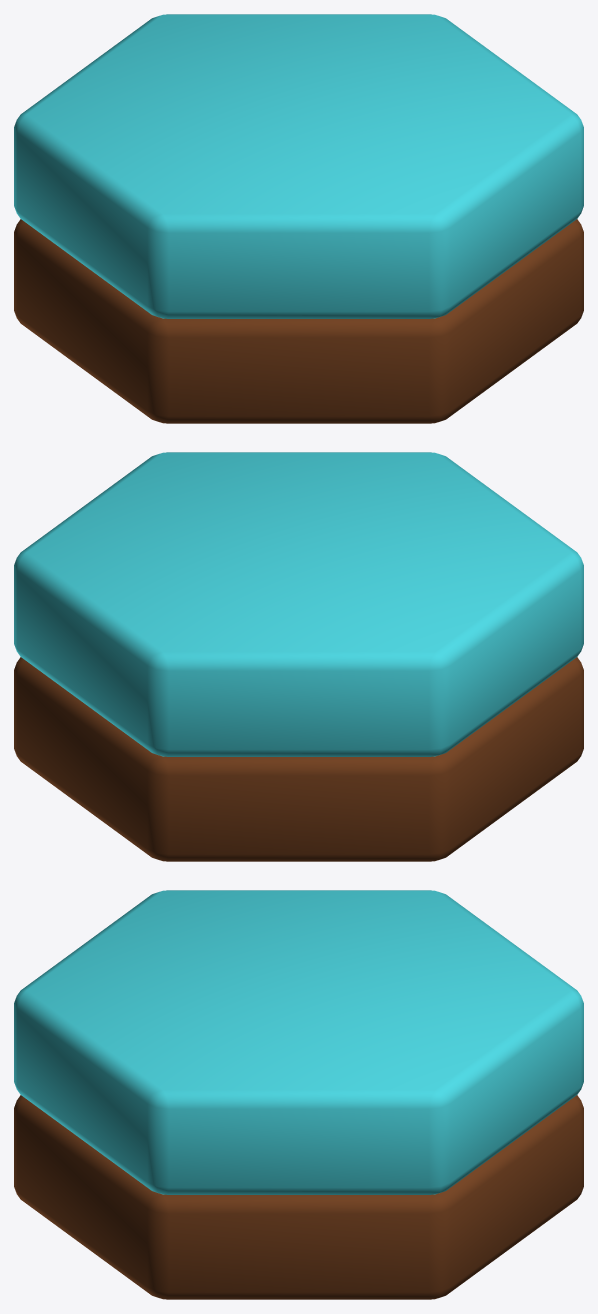
The model's file is ground_water.glb.
3 views of the same model, one above another, from view 1: azimuth 30°, elevation 25°; view 2: azimuth 150°, elevation 25°; view 3: azimuth 270°, elevation 25° (orthographic).
Visible parts, largest first — view 1: ground_water; view 2: ground_water; view 3: ground_water.
Part boxes in pixels (box(x1,y1,x2,y2)): ground_water: box(14, 14, 583, 423); ground_water: box(14, 452, 583, 861); ground_water: box(14, 890, 583, 1299).
Size of the model in its own units: 6.93 by 3.2 by 7.9.
